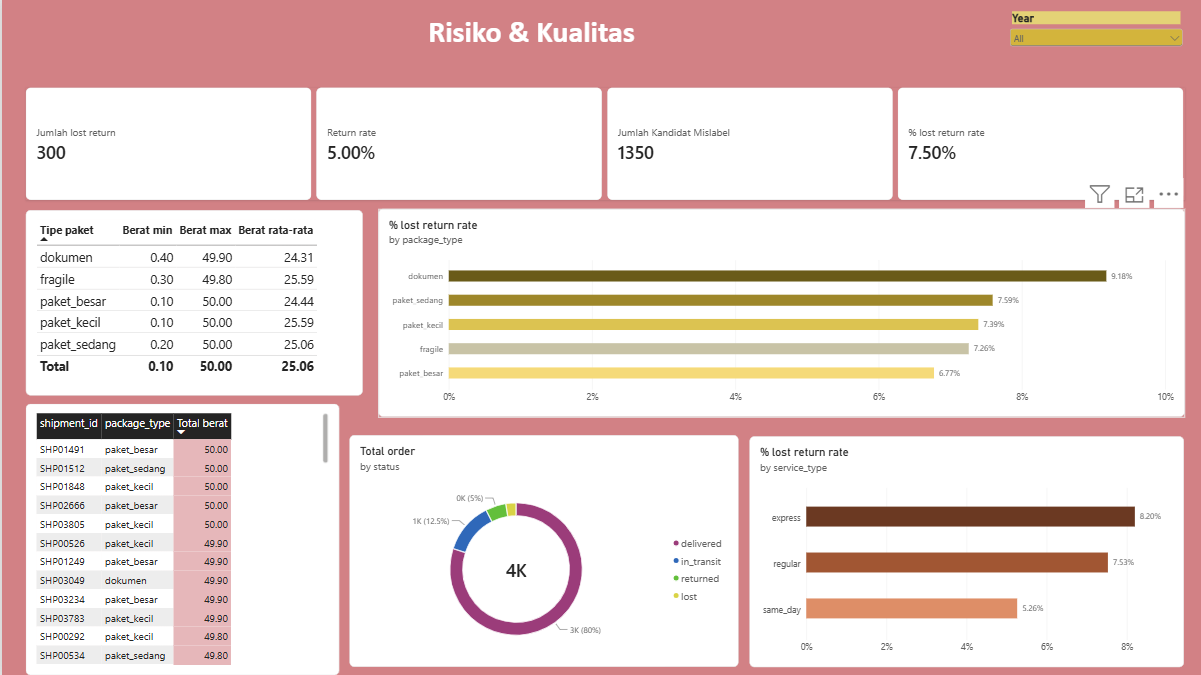

Layout of this report page (visuals, bound fields, positions):
{"tool":"powerbi","page":{"name":"Risiko & Kualitas","canvas":[1920,1080],"ordinal":4},"visuals":[{"type":"textbox","box":[10,0,280,280],"z":0},{"type":"textbox","box":[681.7,22.3,641.6,73.5],"z":1000},{"type":"cardVisual","fields":{"Data":["measure.Jumlah lost return","measure.Return rate","measure.Jumlah Kandidat Mislabel","measure.% lost return rate"]},"box":[37.2,139.7,1854.8,180.6],"z":2000},{"type":"tableEx","fields":{"Values":["shipments.package_type","measure.Berat min","measure.Berat max","measure.Berat rata-rata"]},"box":[37.3,335.6,538.8,296.4],"z":3000},{"type":"donutChart","fields":{"Category":["shipments.status"],"Y":["measure.Total order"]},"box":[555.6,696.7,622.5,371],"z":4000},{"type":"barChart","fields":{"Category":["shipments.package_type"],"Y":["measure.lost return rate"]},"box":[602.6,334.8,1290.3,333],"z":5000},{"type":"barChart","fields":{"Category":["shipments.service_type"],"Y":["measure.lost return rate"]},"box":[1196.4,697.3,695.1,369.8],"z":6000},{"type":"tableEx","fields":{"Values":["shipments.shipment_id","shipments.package_type","measure.Total berat"]},"box":[37.9,646.1,501.3,434.4],"z":7000},{"type":"slicer","fields":{"Values":["shipments.pickup_date.Variation.Date Hierarchy.Year"]},"box":[1608.8,18.1,285.9,95.9],"z":8000}]}

Visuals, with their boxes in screenshot pixels (x1, y1, x2, y2), scaled from the page's 1920x1080 canvas onto the 1201x675 screenshot:
textbox: <bbox>6, 0, 181, 175</bbox>
textbox: <bbox>426, 14, 828, 60</bbox>
cardVisual - measure.Jumlah lost return x measure.Return rate: <bbox>23, 87, 1183, 200</bbox>
tableEx - shipments.package_type x measure.Berat min: <bbox>23, 210, 360, 395</bbox>
donutChart - shipments.status x measure.Total order: <bbox>348, 435, 737, 667</bbox>
barChart - shipments.package_type x measure.lost return rate: <bbox>377, 209, 1184, 417</bbox>
barChart - shipments.service_type x measure.lost return rate: <bbox>748, 436, 1183, 667</bbox>
tableEx - shipments.shipment_id x shipments.package_type: <bbox>24, 404, 337, 674</bbox>
slicer - shipments.pickup_date.Variation.Date Hierarchy.Year: <bbox>1006, 11, 1185, 71</bbox>
